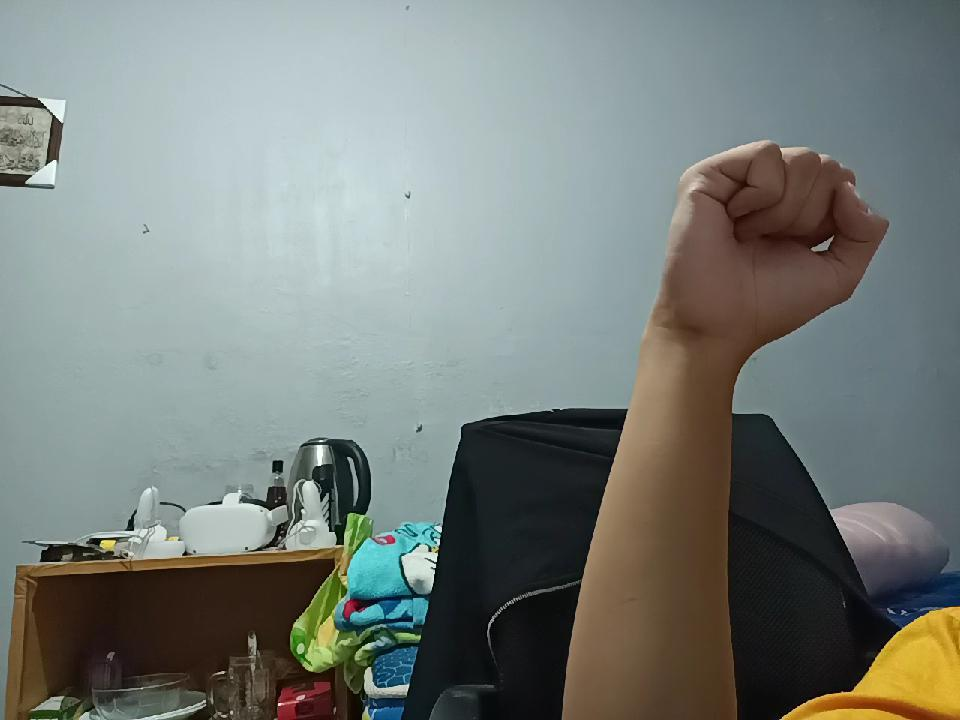rock: (653, 122, 889, 352)
